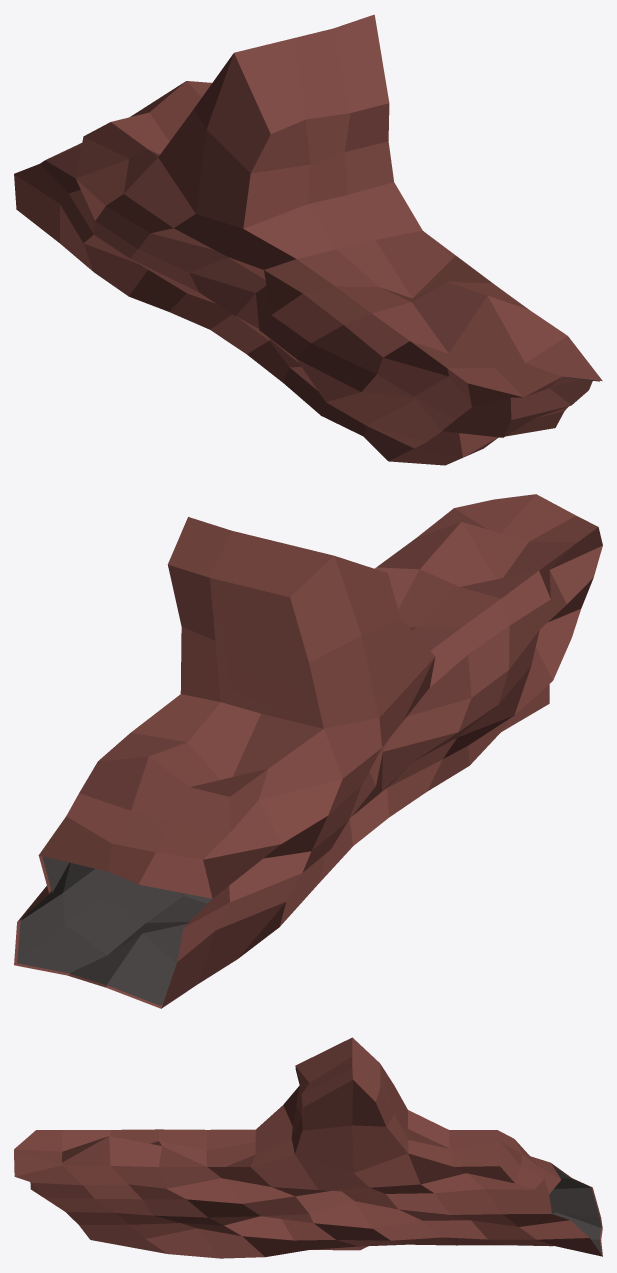
The model's file is Caverna2.fbx.
The picture shows the model from 3 angles, top to bottom: view 1: azimuth 30°, elevation 25°; view 2: azimuth 150°, elevation 25°; view 3: azimuth 270°, elevation 25°; orthographic projection. The views are drawn at different scales.
Parts seen in each view (by area): view 1: EsternoGrotta; view 2: EsternoGrotta, InternoGrotta; view 3: EsternoGrotta, InternoGrotta.
Part boxes in pixels (box(x1,y1,x2,y2)): EsternoGrotta: box(14, 14, 602, 465); EsternoGrotta: box(14, 494, 602, 1008); InternoGrotta: box(17, 856, 212, 1005); EsternoGrotta: box(14, 1037, 602, 1258); InternoGrotta: box(204, 1068, 601, 1253).
Size of the model in its own units: 362 by 522 by 1397.
